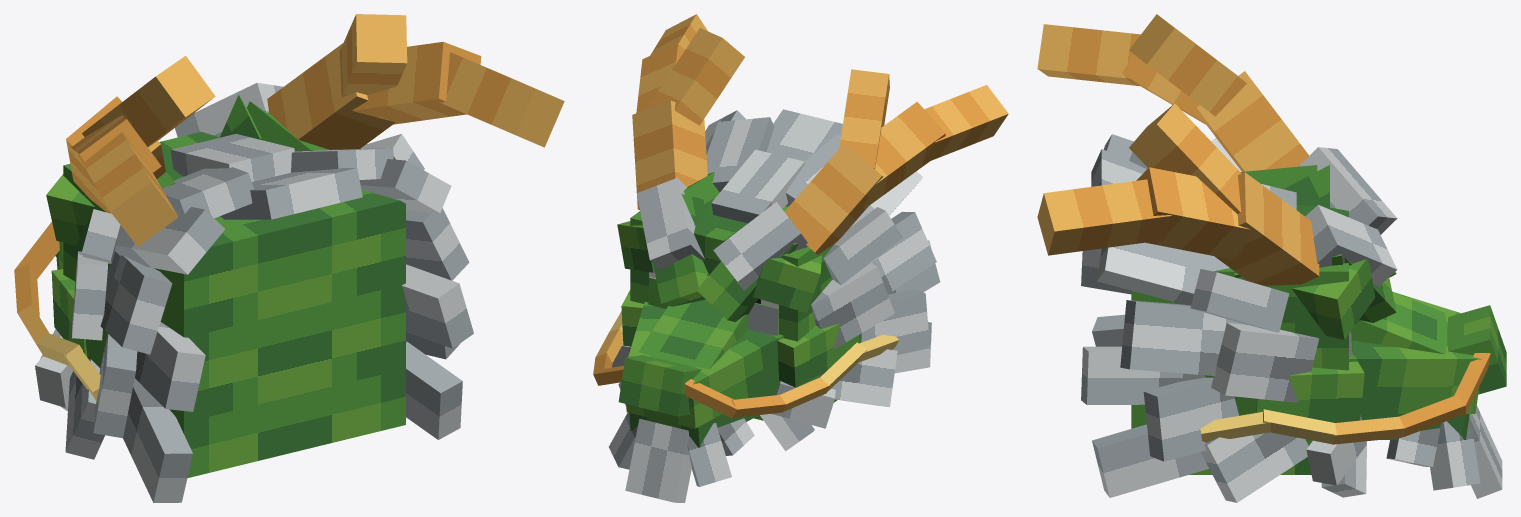
Rendered from A60_HEAD_zhongguol.FBX.
3 renders of one model, left to right at view 1: azimuth 30°, elevation 25°; view 2: azimuth 150°, elevation 25°; view 3: azimuth 270°, elevation 25°, orthographic. The views are drawn at different scales.
Parts seen in each view (by area): view 1: A60_HEAD_zhongguol; view 2: A60_HEAD_zhongguol; view 3: A60_HEAD_zhongguol.
Boxes of the visible parts, left/top/right/bottom form: A60_HEAD_zhongguol: left=14, top=14, right=564, bottom=502; A60_HEAD_zhongguol: left=593, top=14, right=1008, bottom=502; A60_HEAD_zhongguol: left=1037, top=14, right=1506, bottom=502.
Bounding box in the file's own units: 92.92 × 90.81 × 92.15.
